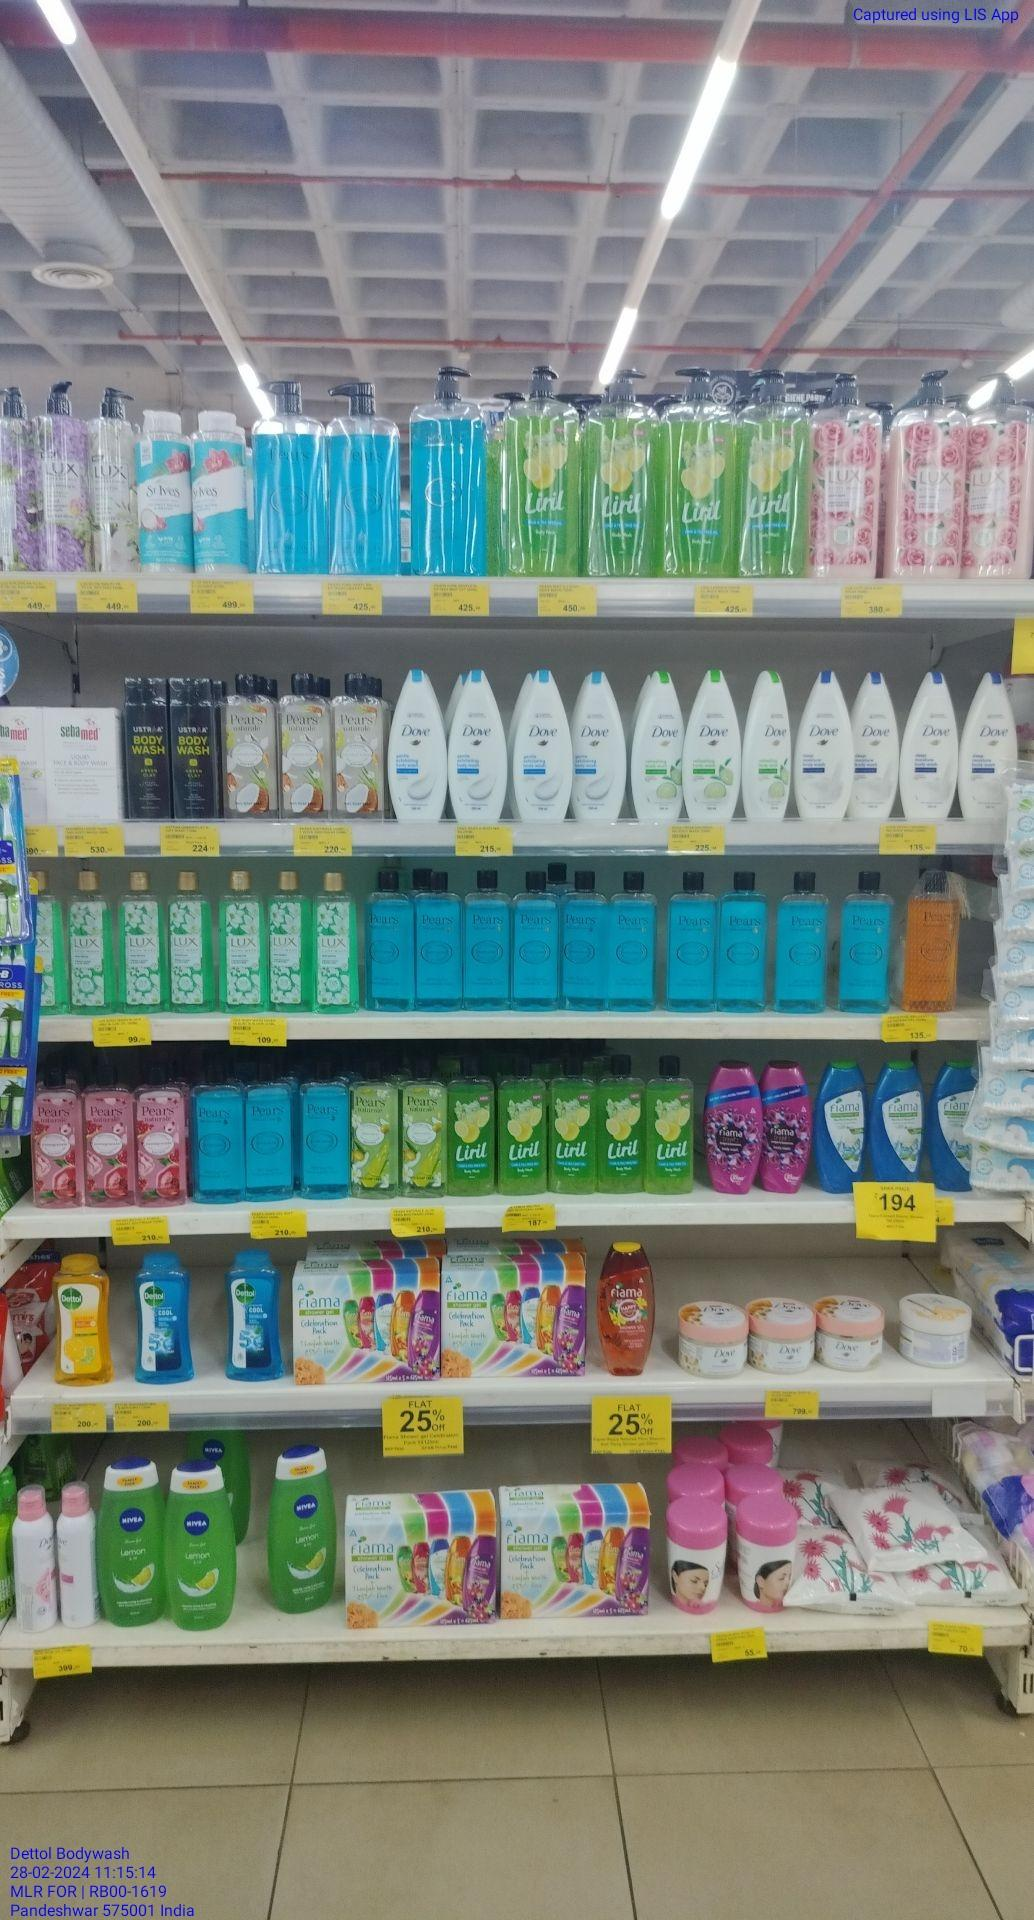Dettol_Bodywash_Cool: (224, 1250, 283, 1383), (136, 1249, 188, 1387)
Dettol_Bodywash_Refresh: (53, 1249, 112, 1387)
Dove_Deep_Moisture_Body_Wash_250ML: (960, 668, 1017, 830), (798, 667, 856, 821), (902, 667, 959, 821), (856, 672, 899, 821)
Dove_Gentle_Exfoliating_Body_Wash_250ML: (387, 668, 448, 826), (450, 668, 509, 824), (513, 674, 572, 828), (573, 670, 627, 824)
Dove_Refreshing_Body_Wash_250ML: (688, 665, 741, 825), (633, 666, 685, 822), (746, 671, 797, 831)
Liril_Lime_and_Tea_Tree_Oil_Body_Wash_250ML: (498, 1055, 549, 1199), (648, 1057, 697, 1197), (549, 1054, 596, 1194), (450, 1054, 495, 1197), (600, 1055, 644, 1196)
Lux_Body_Wash_Skin_Detox_Freesia_Scent_and_Alove_Vera_245ML: (116, 870, 166, 1015), (311, 868, 360, 1012), (219, 870, 267, 1015), (66, 863, 112, 1015), (167, 867, 214, 1013), (267, 867, 309, 1015)
Nivea_Shower_Gel_Lemon_and_Oil_250ML: (164, 1465, 232, 1632), (274, 1451, 335, 1620), (106, 1464, 166, 1628)
Pears_Naturale_Aloe_Vera_Body_Wash_250ML: (353, 1061, 399, 1201), (402, 1057, 444, 1198)
Pears_Pure_Glycerin_and_Mint_Extracts_Body_Wash_250ML: (774, 871, 830, 1016), (842, 870, 894, 1017), (609, 871, 661, 1013), (718, 868, 768, 1016), (194, 1059, 241, 1210), (365, 870, 414, 1015), (299, 1061, 348, 1203), (669, 867, 714, 1013), (562, 868, 607, 1015), (465, 866, 509, 1013), (514, 870, 559, 1015), (418, 867, 461, 1013), (248, 1063, 293, 1202)
